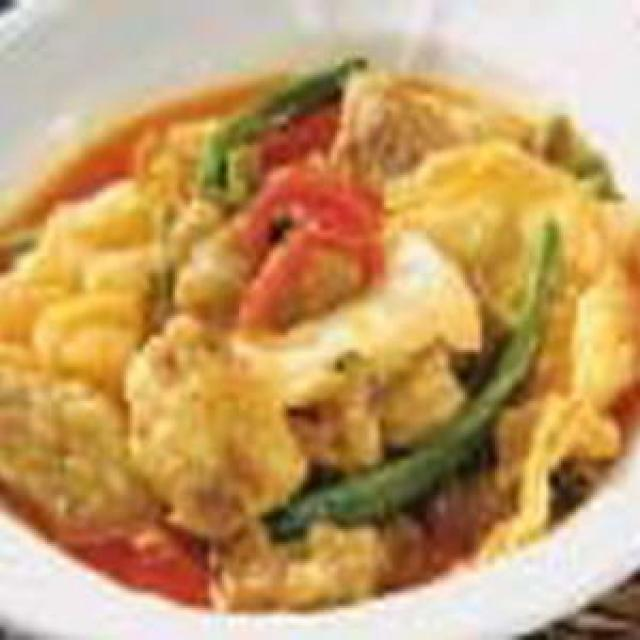熟制海鲜: (21, 53, 616, 612)
